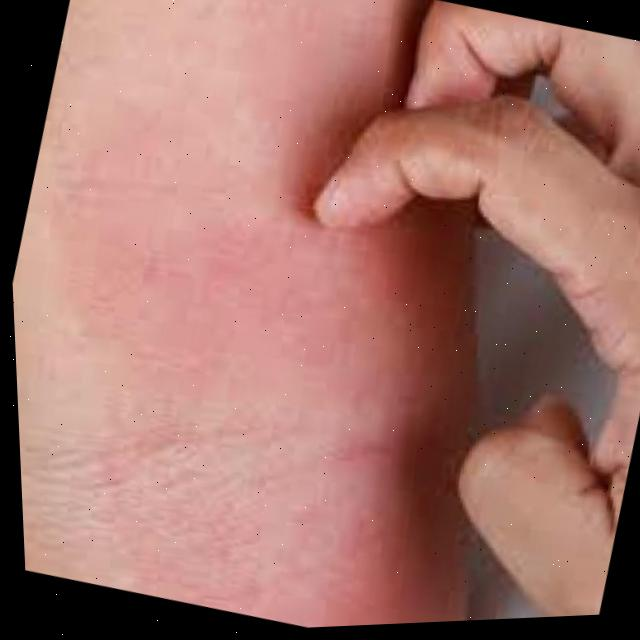Eczema: (5, 93, 500, 640)
